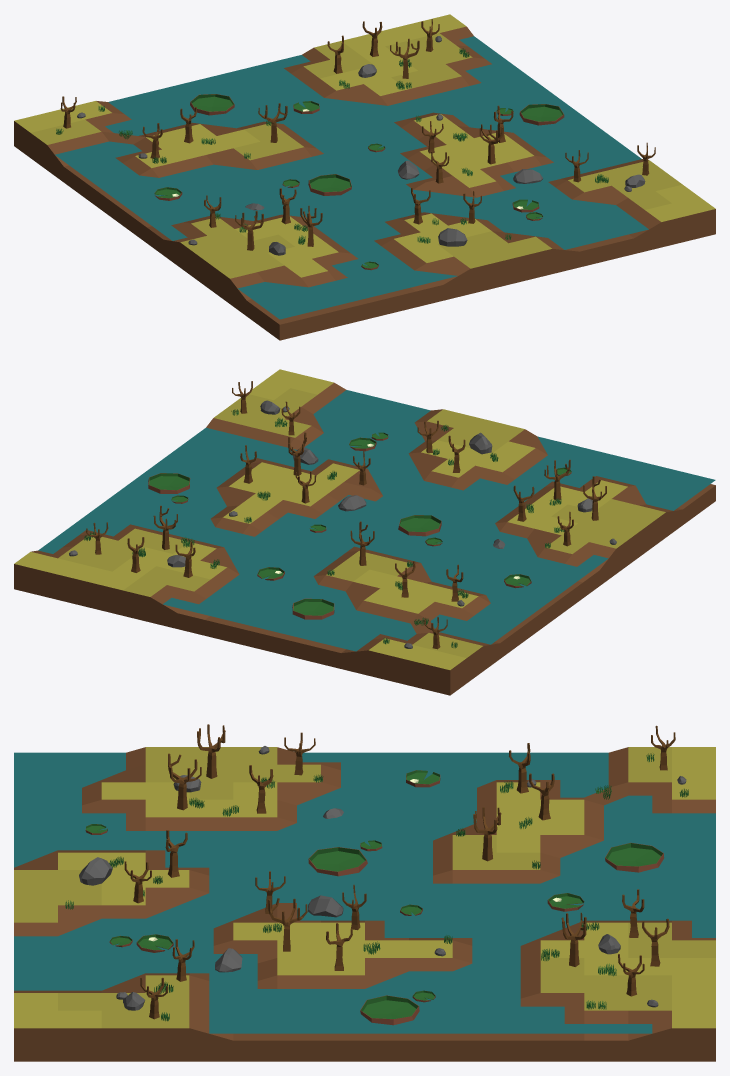
Rendered from fase_pantanal.fbx.
3 renders of one model, top to bottom at view 1: azimuth 30°, elevation 25°; view 2: azimuth 150°, elevation 25°; view 3: azimuth 270°, elevation 25°, orthographic. The views are drawn at different scales.
Visible parts, largest first — view 1: Pantanal Terreno, Pantanal Agua, Pantanal Vitoria Regia 2.001, Pantanal Vitoria Regia 2.003, Pantanal Vitoria Regia 2.002; view 2: Pantanal Terreno, Pantanal Agua, Pantanal Vitoria Regia 2.002, Pantanal Vitoria Regia 2.001, Pantanal Vitoria Regia 2.003; view 3: Pantanal Terreno, Pantanal Agua, Pantanal Vitoria Regia 2.003, Pantanal Vitoria Regia 2.002, Pantanal Vitoria Regia 2.001, Rocha 2.003, Pantanal Arvore 3.005, Pantanal Arvore 3.004, Pantanal Arvore 3.003, Pantanal Arvore 3.001, Pantanal Arvore 3.002, Rocha 2.001 (+2 smaller).
Boxes of the visible parts, box(x1,y1,x2,y2) form: Pantanal Terreno: box(14, 14, 715, 340); Pantanal Agua: box(55, 36, 648, 319); Pantanal Vitoria Regia 2.001: box(308, 174, 351, 195); Pantanal Vitoria Regia 2.003: box(519, 104, 564, 125); Pantanal Vitoria Regia 2.002: box(190, 94, 234, 115); Pantanal Terreno: box(14, 369, 715, 695); Pantanal Agua: box(38, 390, 715, 651); Pantanal Vitoria Regia 2.002: box(292, 598, 334, 619); Pantanal Vitoria Regia 2.001: box(398, 515, 441, 536); Pantanal Vitoria Regia 2.003: box(148, 473, 190, 493); Pantanal Terreno: box(14, 747, 715, 1061); Pantanal Agua: box(14, 752, 715, 1033); Pantanal Vitoria Regia 2.003: box(360, 995, 419, 1025); Pantanal Vitoria Regia 2.002: box(605, 842, 664, 872); Pantanal Vitoria Regia 2.001: box(308, 847, 367, 876); Rocha 2.003: box(79, 857, 112, 885); Pantanal Arvore 3.005: box(168, 753, 201, 810); Pantanal Arvore 3.004: box(561, 912, 586, 966); Pantanal Arvore 3.003: box(197, 724, 225, 778); Pantanal Arvore 3.001: box(268, 898, 307, 951); Pantanal Arvore 3.002: box(473, 807, 501, 861); Rocha 2.001: box(308, 895, 343, 917).
Size of the model in its own units: 3600 by 495 by 3800.
